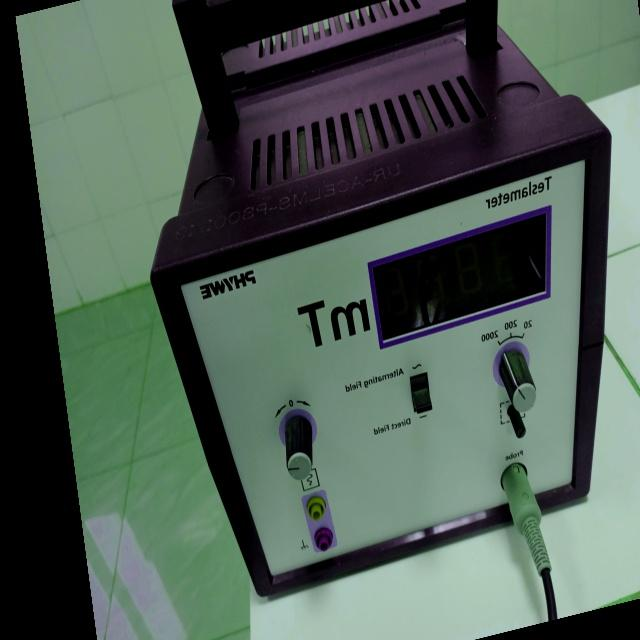Teslameter PS: (106, 0, 640, 633)
